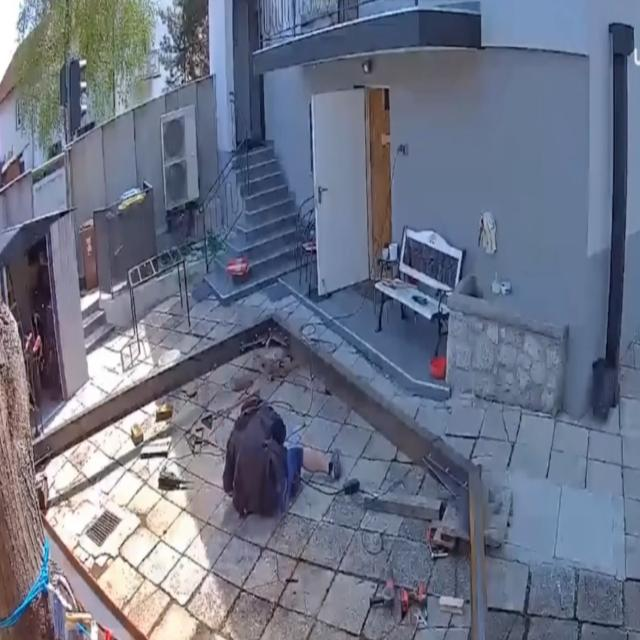fallen: (223, 394, 341, 516)
